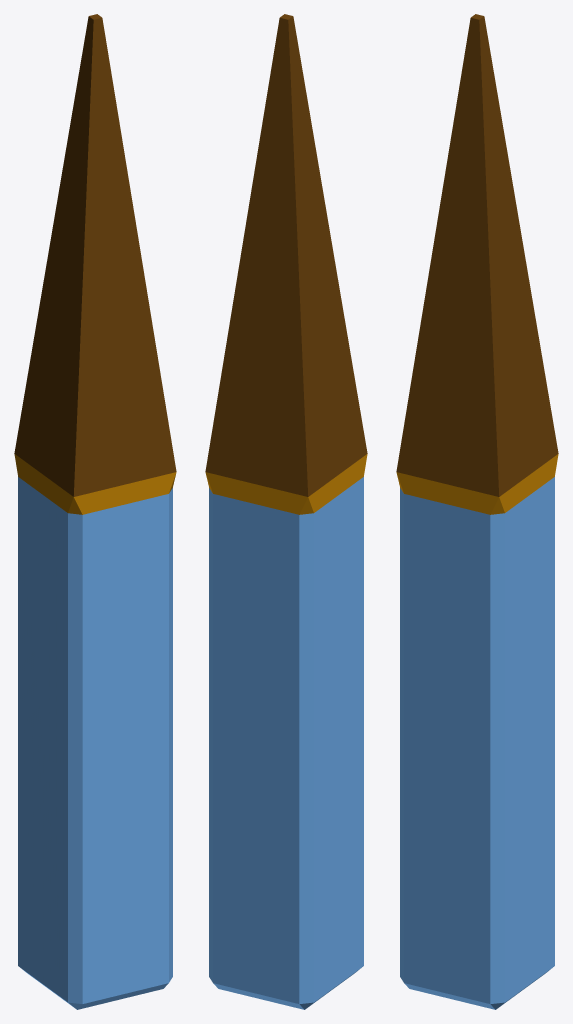
Rendered from pointy_tower.obj.
3 views of the same model, side by side, from view 1: azimuth 30°, elevation 25°; view 2: azimuth 150°, elevation 25°; view 3: azimuth 330°, elevation 25° (orthographic).
Visible parts, largest first — view 1: Cube; view 2: Cube; view 3: Cube.
Part boxes in pixels (left/top/right/bottom): Cube: left=14, top=14, right=176, bottom=1009; Cube: left=205, top=14, right=367, bottom=1009; Cube: left=396, top=14, right=558, bottom=1009.
Bounding box in the file's own units: 2 × 17.57 × 2.
